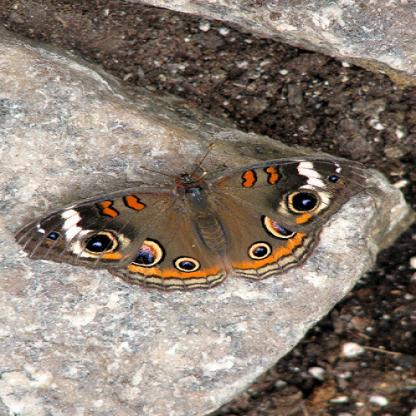Common Buckeye: (10, 136, 366, 308)
